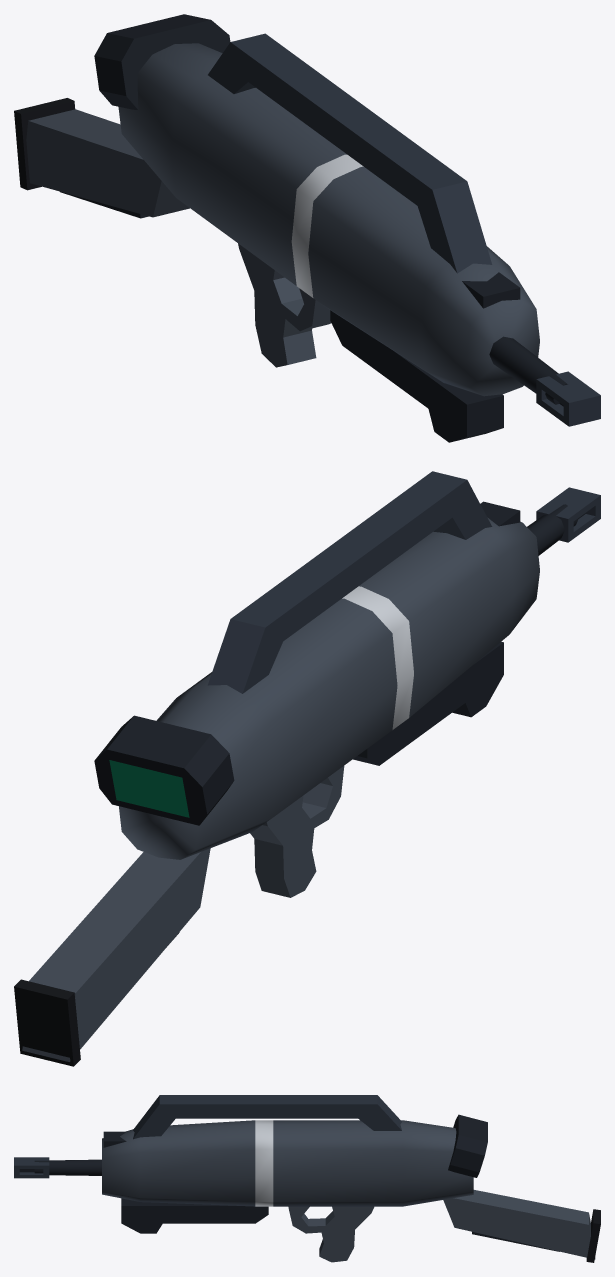
The model's file is v-pulse-crowd.glb.
3 views of the same model, one above another, from view 1: azimuth 30°, elevation 25°; view 2: azimuth 150°, elevation 25°; view 3: azimuth 270°, elevation 25° (orthographic). The views are drawn at different scales.
Visible parts, largest first — view 1: V_Pulse; view 2: V_Pulse; view 3: V_Pulse.
Part boxes in pixels (box(x1,y1,x2,y2)): V_Pulse: box(14, 14, 600, 442); V_Pulse: box(14, 471, 600, 1066); V_Pulse: box(14, 1095, 600, 1262).
Size of the model in its own units: 0.0252 by 0.0658 by 0.2199.
